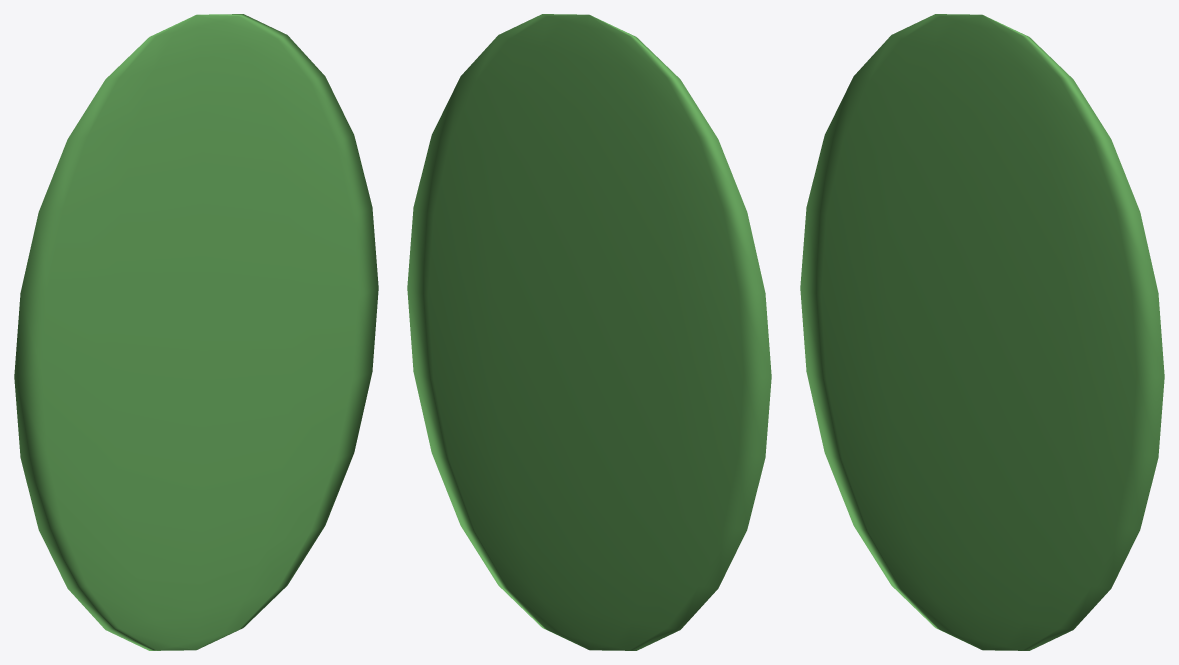
Rendered from leaf.glb.
The picture shows the model from 3 angles, left to right: view 1: azimuth 30°, elevation 25°; view 2: azimuth 150°, elevation 25°; view 3: azimuth 330°, elevation 25°; orthographic projection.
Size of the model in its own units: 0.6 by 1 by 0.04.
